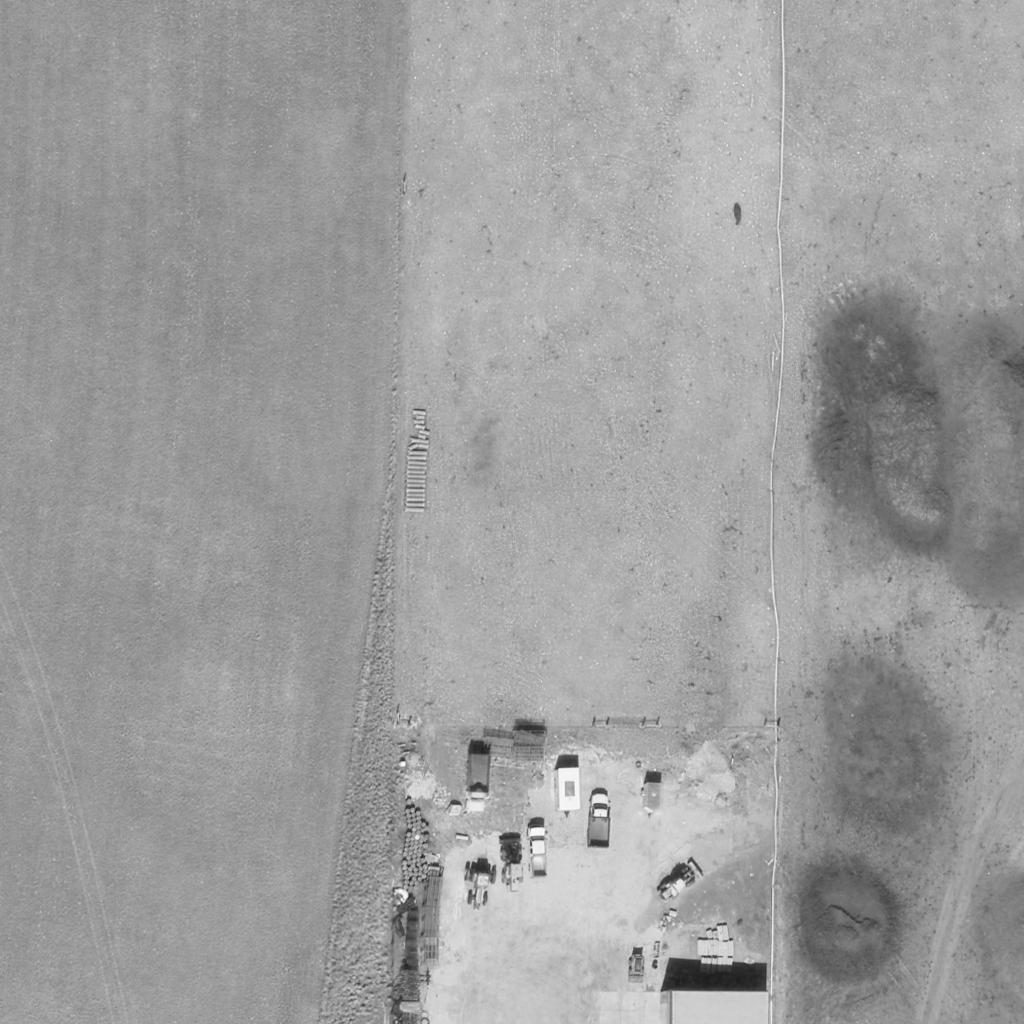vehicle: (458, 862, 500, 912), (659, 860, 705, 904), (463, 752, 489, 816), (499, 836, 527, 894), (551, 766, 583, 812), (586, 795, 612, 849), (528, 824, 550, 876), (644, 783, 660, 817)
